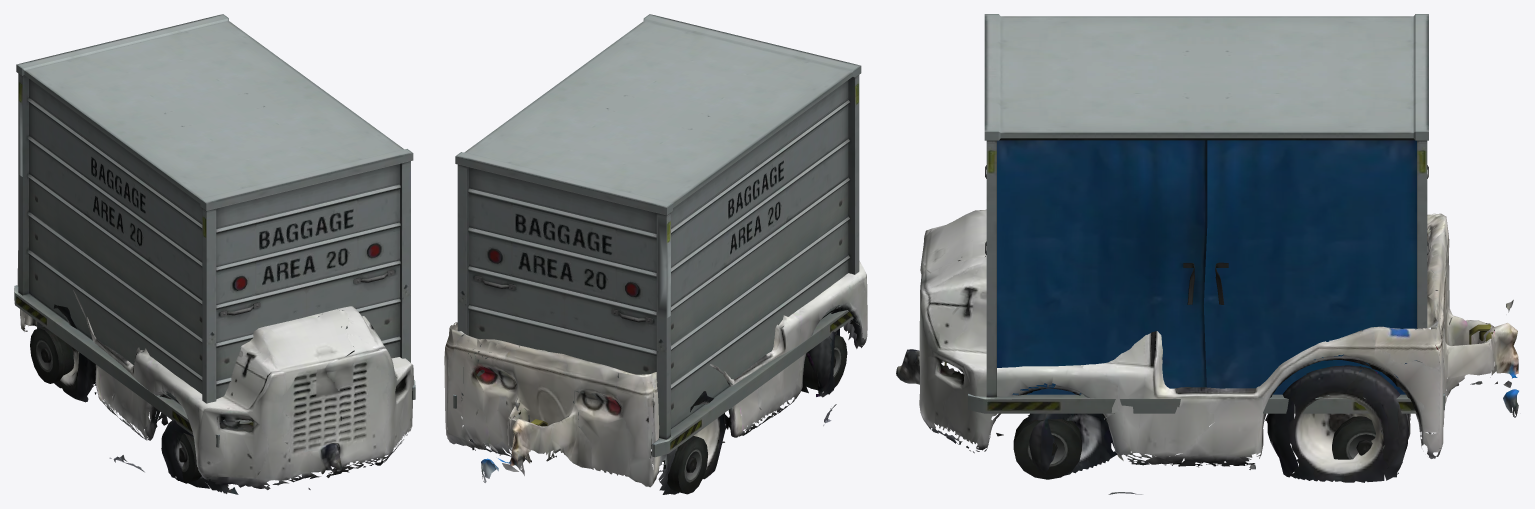
Rendered from air_gse.glb.
The picture shows the model from 3 angles, left to right: view 1: azimuth 30°, elevation 25°; view 2: azimuth 150°, elevation 25°; view 3: azimuth 270°, elevation 25°; orthographic projection. The views are drawn at different scales.
Parts seen in each view (by area): view 1: gse_cart, gse_tug; view 2: gse_cart, gse_tug; view 3: gse_cart, gse_tug.
Boxes of the visible parts, x1=… form: gse_cart: x1=14, y1=14, x2=415, y2=483; gse_tug: x1=17, y1=250, x2=413, y2=494; gse_cart: x1=453, y1=14, x2=861, y2=494; gse_tug: x1=444, y1=261, x2=867, y2=494; gse_cart: x1=944, y1=14, x2=1492, y2=479; gse_tug: x1=896, y1=209, x2=1518, y2=494.
Bounding box in the file's own units: 1.92 × 2.03 × 3.3.
Materials: 2 (2 with a texture image).
